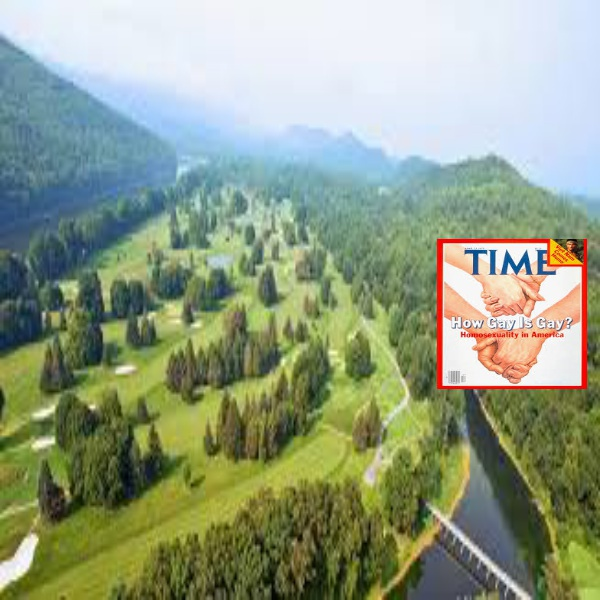time_cover: (439, 229, 583, 388)
